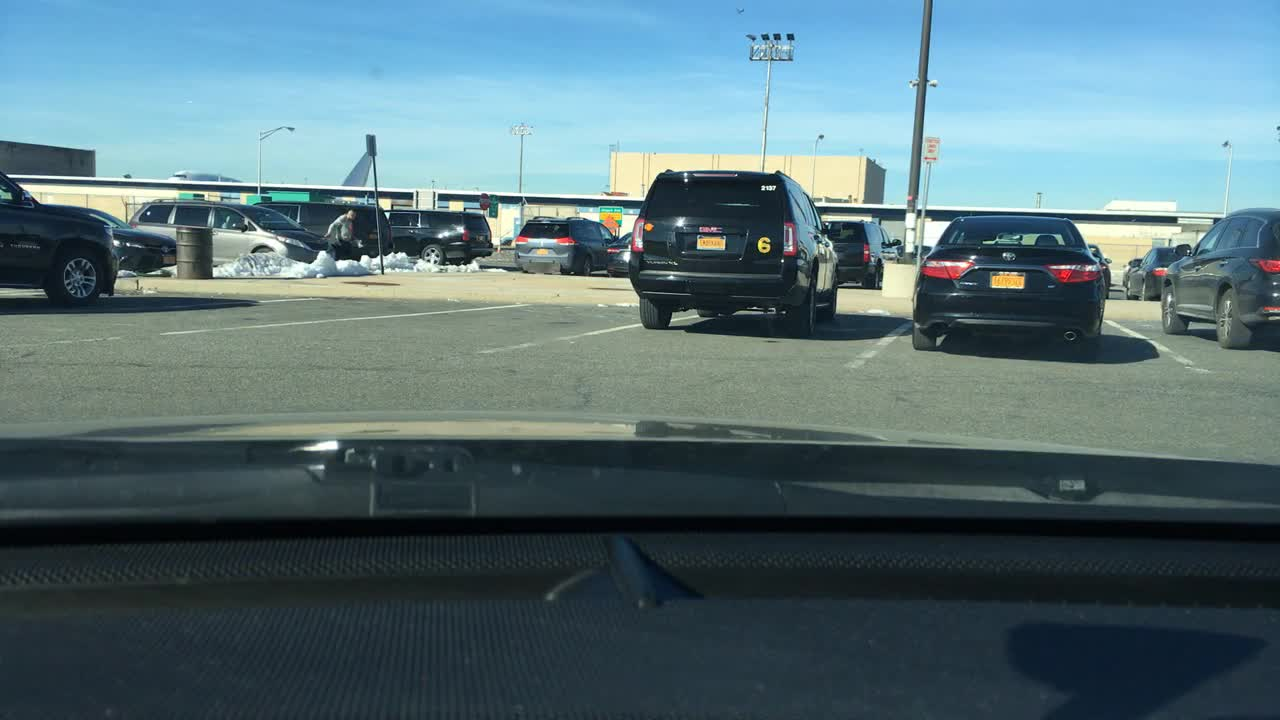car: (629, 167, 837, 334), (911, 212, 1105, 354), (1159, 207, 1279, 349), (0, 169, 118, 309), (128, 201, 337, 266), (66, 206, 179, 273), (384, 204, 492, 265), (509, 212, 617, 272), (823, 219, 882, 287), (1125, 241, 1189, 297), (1083, 243, 1110, 302), (602, 231, 633, 280), (1119, 253, 1144, 297), (909, 241, 928, 265), (882, 241, 901, 261)
person: (320, 206, 364, 258)
traffic sign: (921, 131, 938, 162), (599, 204, 621, 224), (486, 192, 499, 218), (476, 192, 489, 209)
truck: (253, 199, 390, 258)
